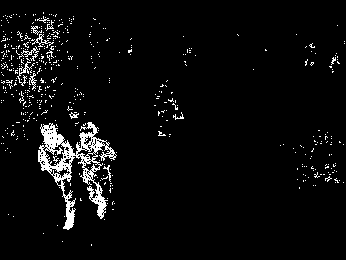person: (70, 120, 119, 230), (32, 120, 77, 239)
